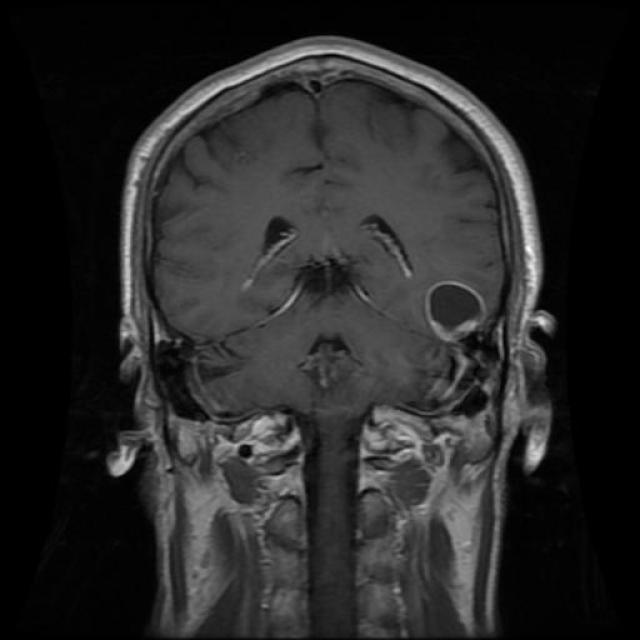glioma: (422, 270, 485, 352)
